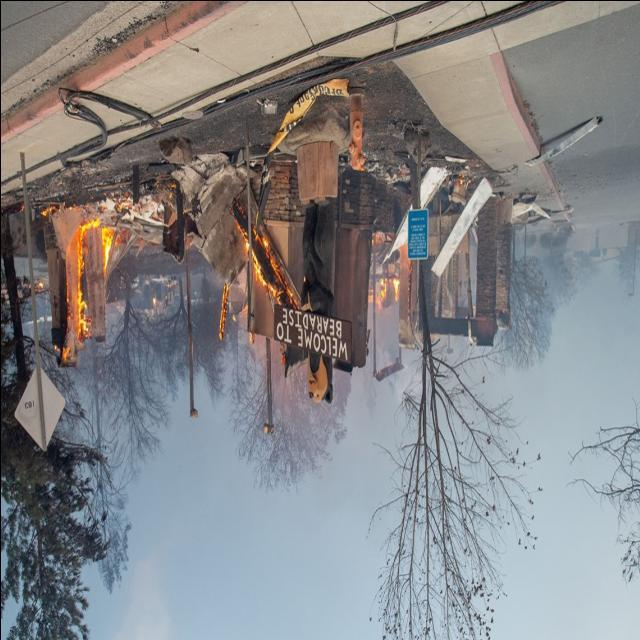Fire: (56, 192, 118, 362), (224, 198, 298, 322)
